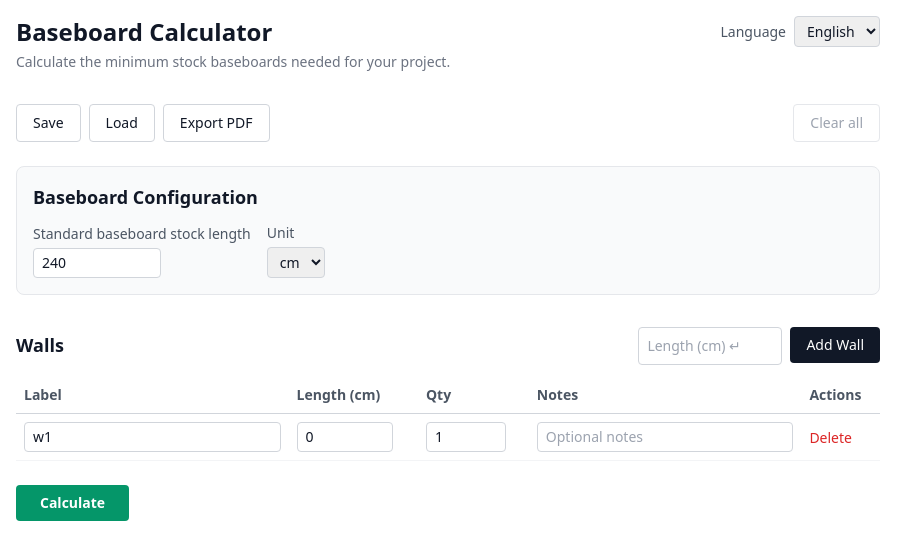
Test: App › Clear all › is disabled while there is nothing to clear
Expected: the button with test id "clear-all-button" is disabled, [793,104,880,142]
In the field with test id "quick-add-input": {"x": 710, "y": 346} [638,327,782,365], type "120"
Then press Enter
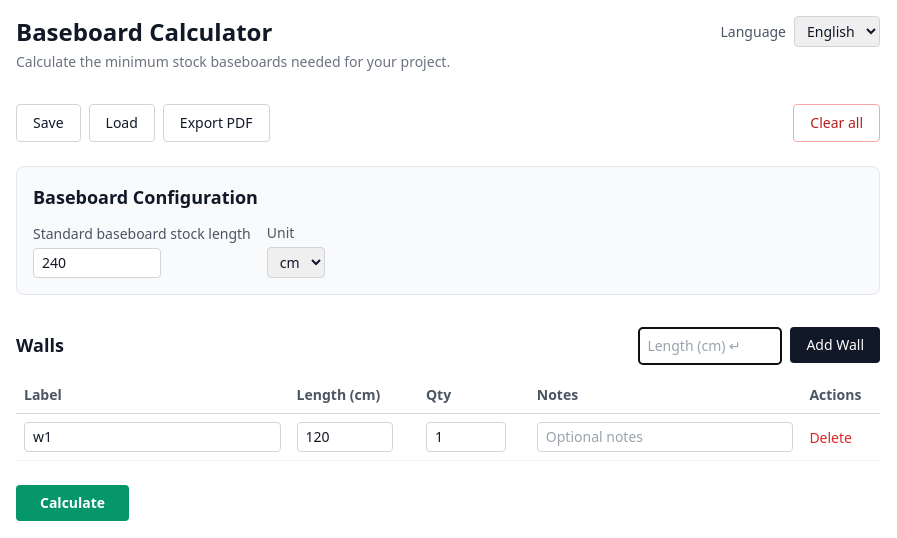
Expected: the button with test id "clear-all-button" is enabled, [793,104,880,142]
